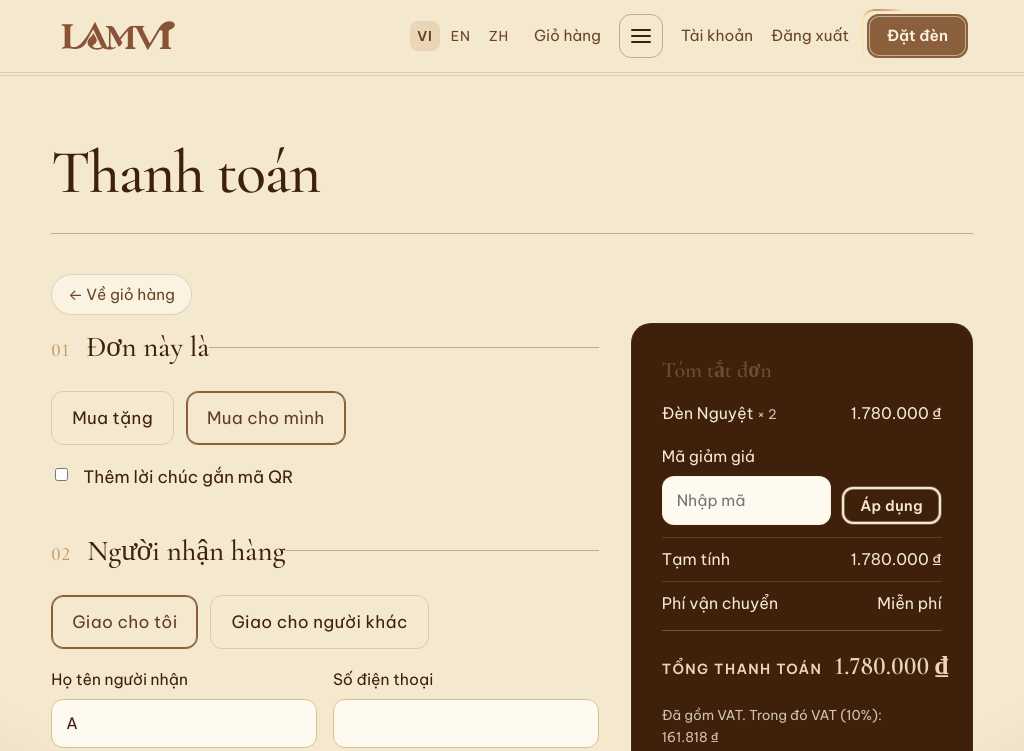
Test: Loại đơn và lời chúc (FR-CHK-002/003/005) › đơn tặng: bỏ ô "Thêm lời chúc", hiện chọn ngôn ngữ trang QR
Expected: the heading "Tóm tắt đơn" is shown, x1=662 y1=357 x2=771 y2=383
Expected: the checkbox labelled "Thêm lời chúc gắn mã QR" is shown, x1=55 y1=468 x2=68 y2=481
Click the button "Mua tặng" at (113, 418), box x1=51 y1=391 x2=174 y2=445
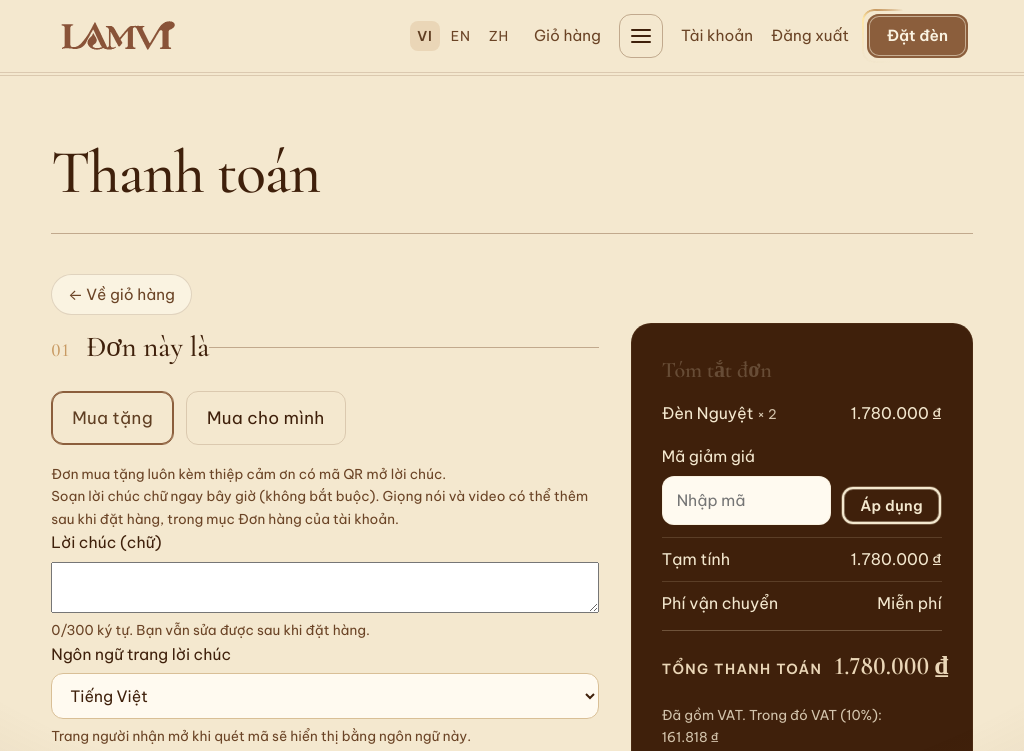
Expected: the text labelled "Thêm lời chúc gắn mã QR" is gone
Expected: the dropdown labelled "Ngôn ngữ trang lời chúc" is shown, x1=51 y1=673 x2=599 y2=719
